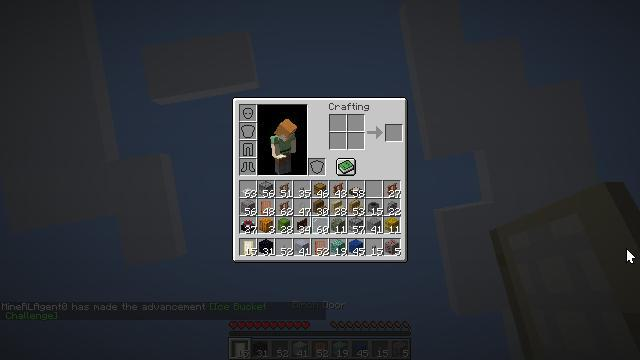cursor: (626, 248, 636, 264)
